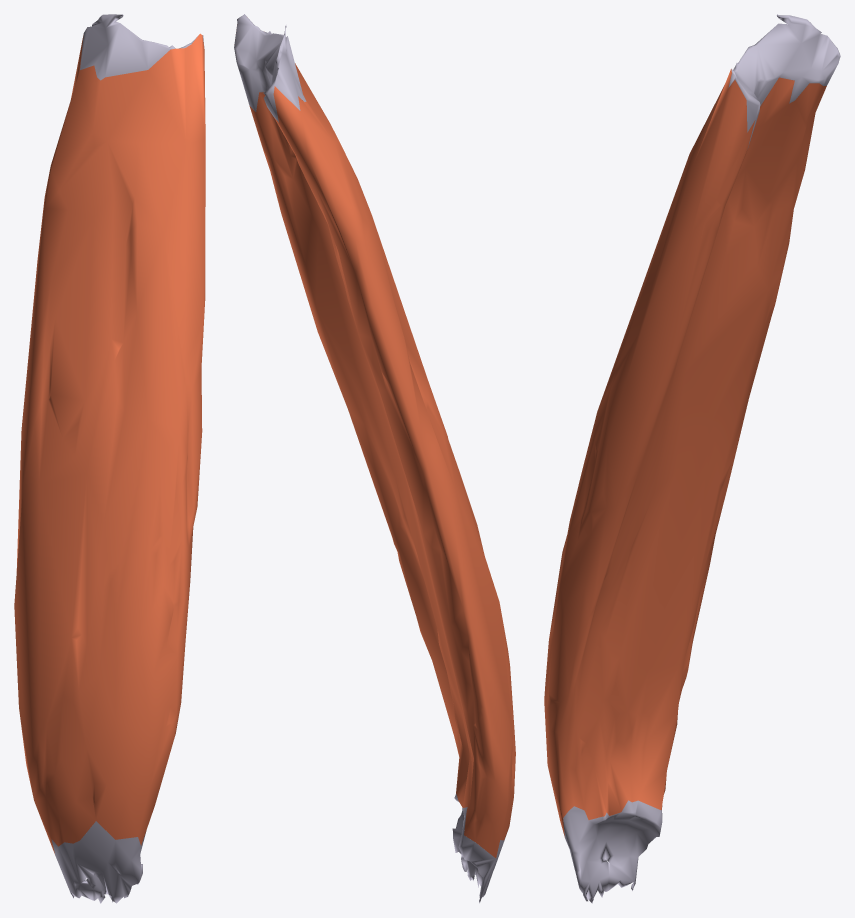
File: Abductor_digiti_minimi.l_Generated_Mesh_From_X3D.1018.glb
The picture shows the model from 3 angles, left to right: view 1: azimuth 30°, elevation 25°; view 2: azimuth 150°, elevation 25°; view 3: azimuth 270°, elevation 25°; orthographic projection. The views are drawn at different scales.
Parts seen in each view (by area): view 1: Abductor_digiti_minimi.l_Generated_Mesh_From_X3D.1018; view 2: Abductor_digiti_minimi.l_Generated_Mesh_From_X3D.1018; view 3: Abductor_digiti_minimi.l_Generated_Mesh_From_X3D.1018.
Part boxes in pixels (x1,y1,x2,y2): Abductor_digiti_minimi.l_Generated_Mesh_From_X3D.1018: [14, 14, 205, 903]; Abductor_digiti_minimi.l_Generated_Mesh_From_X3D.1018: [234, 14, 515, 903]; Abductor_digiti_minimi.l_Generated_Mesh_From_X3D.1018: [544, 14, 840, 903].
Size of the model in its own units: 0.0182 by 0.0673 by 0.0192.
